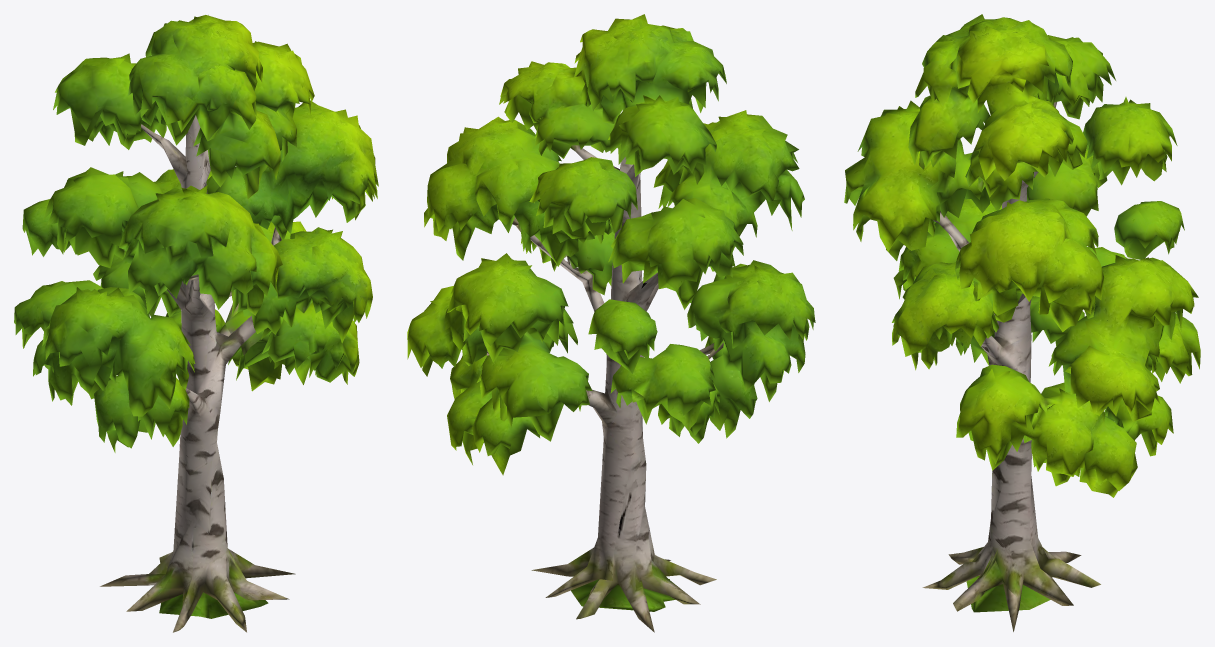
Rendered from tree_b.glb.
3 renders of one model, left to right at view 1: azimuth 30°, elevation 25°; view 2: azimuth 150°, elevation 25°; view 3: azimuth 270°, elevation 25°, orthographic. The views are drawn at different scales.
Visible parts, largest first — view 1: tripo_part_0, tripo_part_3, tripo_part_1, tripo_part_6, tripo_part_4, tripo_part_7, tripo_part_5, tripo_part_9, tripo_part_11, tripo_part_8, tripo_part_2, tripo_part_12 (+1 smaller); view 2: tripo_part_0, tripo_part_2, tripo_part_3, tripo_part_4, tripo_part_6, tripo_part_1, tripo_part_9, tripo_part_8, tripo_part_10, tripo_part_5, tripo_part_12, tripo_part_11 (+1 smaller); view 3: tripo_part_0, tripo_part_2, tripo_part_5, tripo_part_3, tripo_part_4, tripo_part_1, tripo_part_7, tripo_part_10, tripo_part_12, tripo_part_6, tripo_part_9, tripo_part_8.
Part boxes in pixels (box(x1,y1,x2,y2)): tripo_part_0: box(53, 15, 314, 198); tripo_part_3: box(100, 115, 295, 632); tripo_part_1: box(119, 185, 282, 315); tripo_part_6: box(33, 287, 195, 416); tripo_part_4: box(206, 100, 378, 239); tripo_part_7: box(231, 227, 372, 343); tripo_part_5: box(165, 302, 359, 391); tripo_part_9: box(43, 167, 163, 268); tripo_part_11: box(94, 375, 189, 452); tripo_part_8: box(14, 280, 110, 405); tripo_part_2: box(93, 169, 306, 317); tripo_part_12: box(22, 199, 88, 256); tripo_part_0: box(499, 14, 726, 184); tripo_part_2: box(407, 253, 592, 441); tripo_part_3: box(486, 145, 723, 632); tripo_part_4: box(424, 116, 612, 266); tripo_part_6: box(687, 260, 815, 401); tripo_part_1: box(653, 110, 804, 251); tripo_part_9: box(608, 198, 743, 309); tripo_part_8: box(610, 344, 720, 443); tripo_part_10: box(529, 157, 637, 238); tripo_part_5: box(447, 309, 577, 475); tripo_part_12: box(588, 299, 657, 373); tripo_part_11: box(705, 336, 757, 438); tripo_part_0: box(908, 14, 1115, 210); tripo_part_2: box(1048, 255, 1200, 421); tripo_part_5: box(956, 364, 1173, 497); tripo_part_3: box(922, 102, 1100, 631); tripo_part_4: box(954, 198, 1104, 331); tripo_part_1: box(844, 100, 990, 260); tripo_part_7: box(892, 262, 998, 370); tripo_part_10: box(1083, 97, 1177, 185); tripo_part_12: box(1114, 201, 1184, 259); tripo_part_6: box(893, 199, 1001, 299); tripo_part_9: box(1027, 150, 1107, 216); tripo_part_8: box(1030, 246, 1127, 346).
Bounding box in the file's own units: 0.6214 × 0.9997 × 0.5738.
13 materials, 13 textured.
